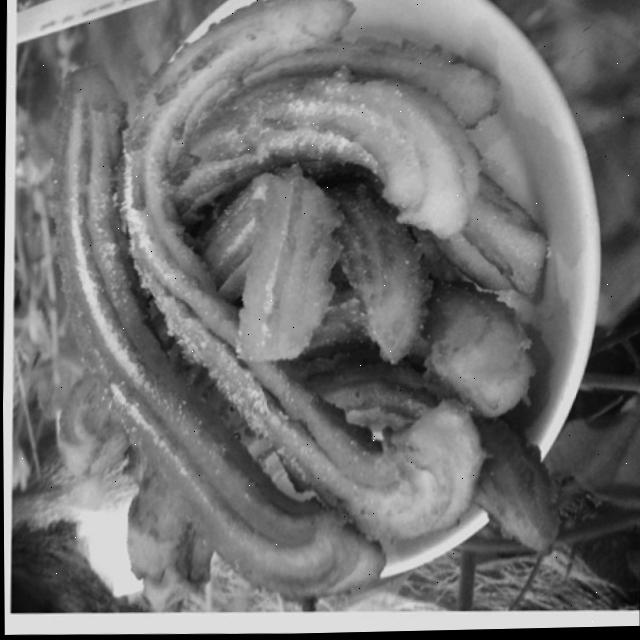炸货点心: (35, 0, 593, 610)
